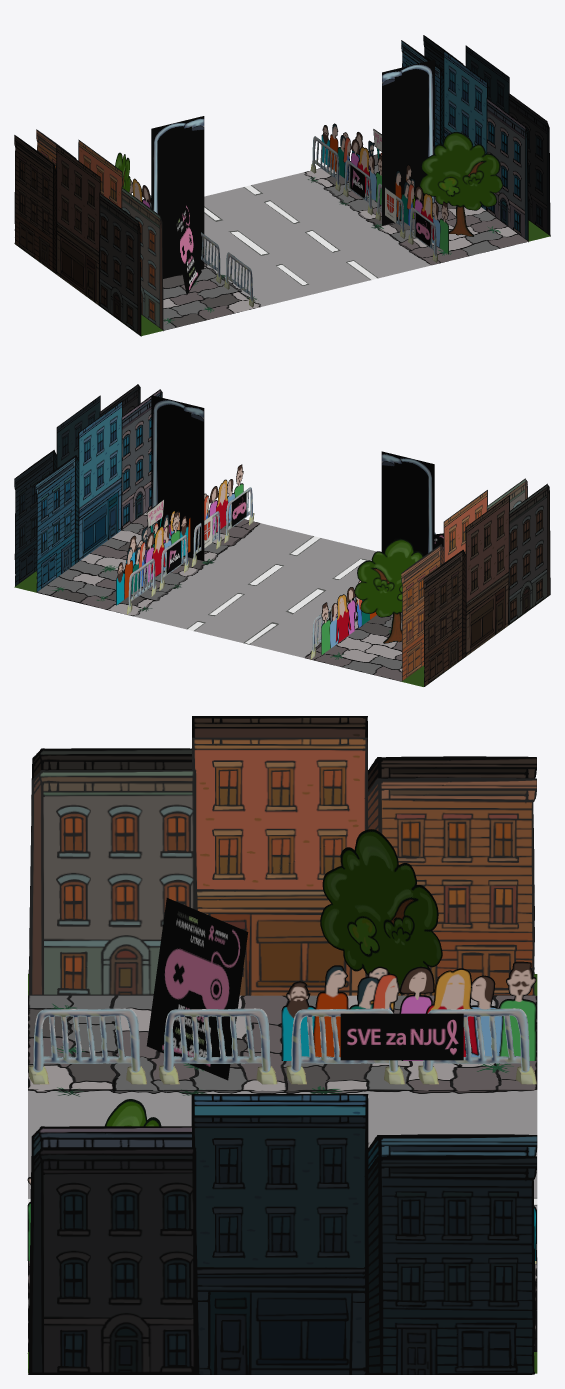
File: Scene4_backface.fbx
3 renders of one model, top to bottom at view 1: azimuth 30°, elevation 25°; view 2: azimuth 150°, elevation 25°; view 3: azimuth 270°, elevation 25°, orthographic. The views are drawn at different scales.
Parts seen in each view (by area): view 1: Road.004, Buildings2-Dark-L, Buildings-Light-R.001, Lamp-Post-L.003, Lamp-Post-R.003, Tree.010, Buildings2-Light-L, Buildings-Dark-R.002, crowd.013, crowd.012, novska-za-nju, Fence-R.015 (+6 smaller); view 2: Road.004, Buildings2-Dark-L, Buildings-Light-R.001, Lamp-Post-R.003, Buildings2-Light-L, Lamp-Post-L.003, Buildings-Dark-R.002, Tree.009, crowd.013, crowd.015, crowd.012, crowd2.007 (+4 smaller); view 3: Buildings-Dark-R.002, Buildings2-Light-L, Road.004, Tree.009, Buildings-Light-R.001, crowd.015, Buildings2-Dark-L, novska-za-nju, Logo_sznj.003, Fence-L.013, Fence-L.012, Fence-L.015 (+2 smaller).
Part boxes in pixels (x1,y1,x2,y2): Road.004: (21, 153, 550, 335); Buildings2-Dark-L: (14, 135, 141, 336); Buildings-Light-R.001: (401, 40, 528, 242); Lamp-Post-L.003: (151, 116, 204, 278); Lamp-Post-R.003: (382, 59, 434, 225); Tree.010: (419, 132, 502, 236); Buildings2-Light-L: (36, 129, 163, 331); Buildings-Dark-R.002: (423, 35, 550, 236); crowd.013: (321, 123, 381, 204); crowd.012: (395, 170, 448, 254); novska-za-nju: (173, 203, 201, 294); Fence-R.015: (310, 136, 340, 191); Road.004: (14, 509, 543, 686); Buildings2-Dark-L: (423, 483, 550, 686); Buildings-Light-R.001: (36, 389, 162, 591); Lamp-Post-R.003: (151, 395, 204, 560); Buildings2-Light-L: (401, 478, 527, 680); Lamp-Post-L.003: (381, 451, 434, 555); Buildings-Dark-R.002: (14, 384, 140, 586); Tree.009: (354, 538, 423, 643); crowd.013: (116, 511, 179, 605); crowd.015: (321, 580, 376, 654); crowd.012: (180, 464, 243, 557); crowd2.007: (125, 499, 179, 574); Buildings-Dark-R.002: (28, 1115, 536, 1374); Buildings2-Light-L: (28, 737, 536, 995); Road.004: (28, 974, 537, 1373); Tree.009: (320, 829, 442, 994); Buildings-Light-R.001: (27, 1094, 537, 1353); crowd.015: (281, 961, 536, 1060); Buildings2-Dark-L: (28, 716, 536, 974); novska-za-nju: (146, 898, 248, 1080); Logo_sznj.003: (340, 1013, 463, 1060); Fence-L.013: (28, 1008, 146, 1084); Fence-L.012: (159, 1008, 277, 1084); Fence-L.015: (418, 1008, 536, 1084).
Bounding box in the file's own units: 1115 × 400 × 601.
18 materials, 17 textured.
